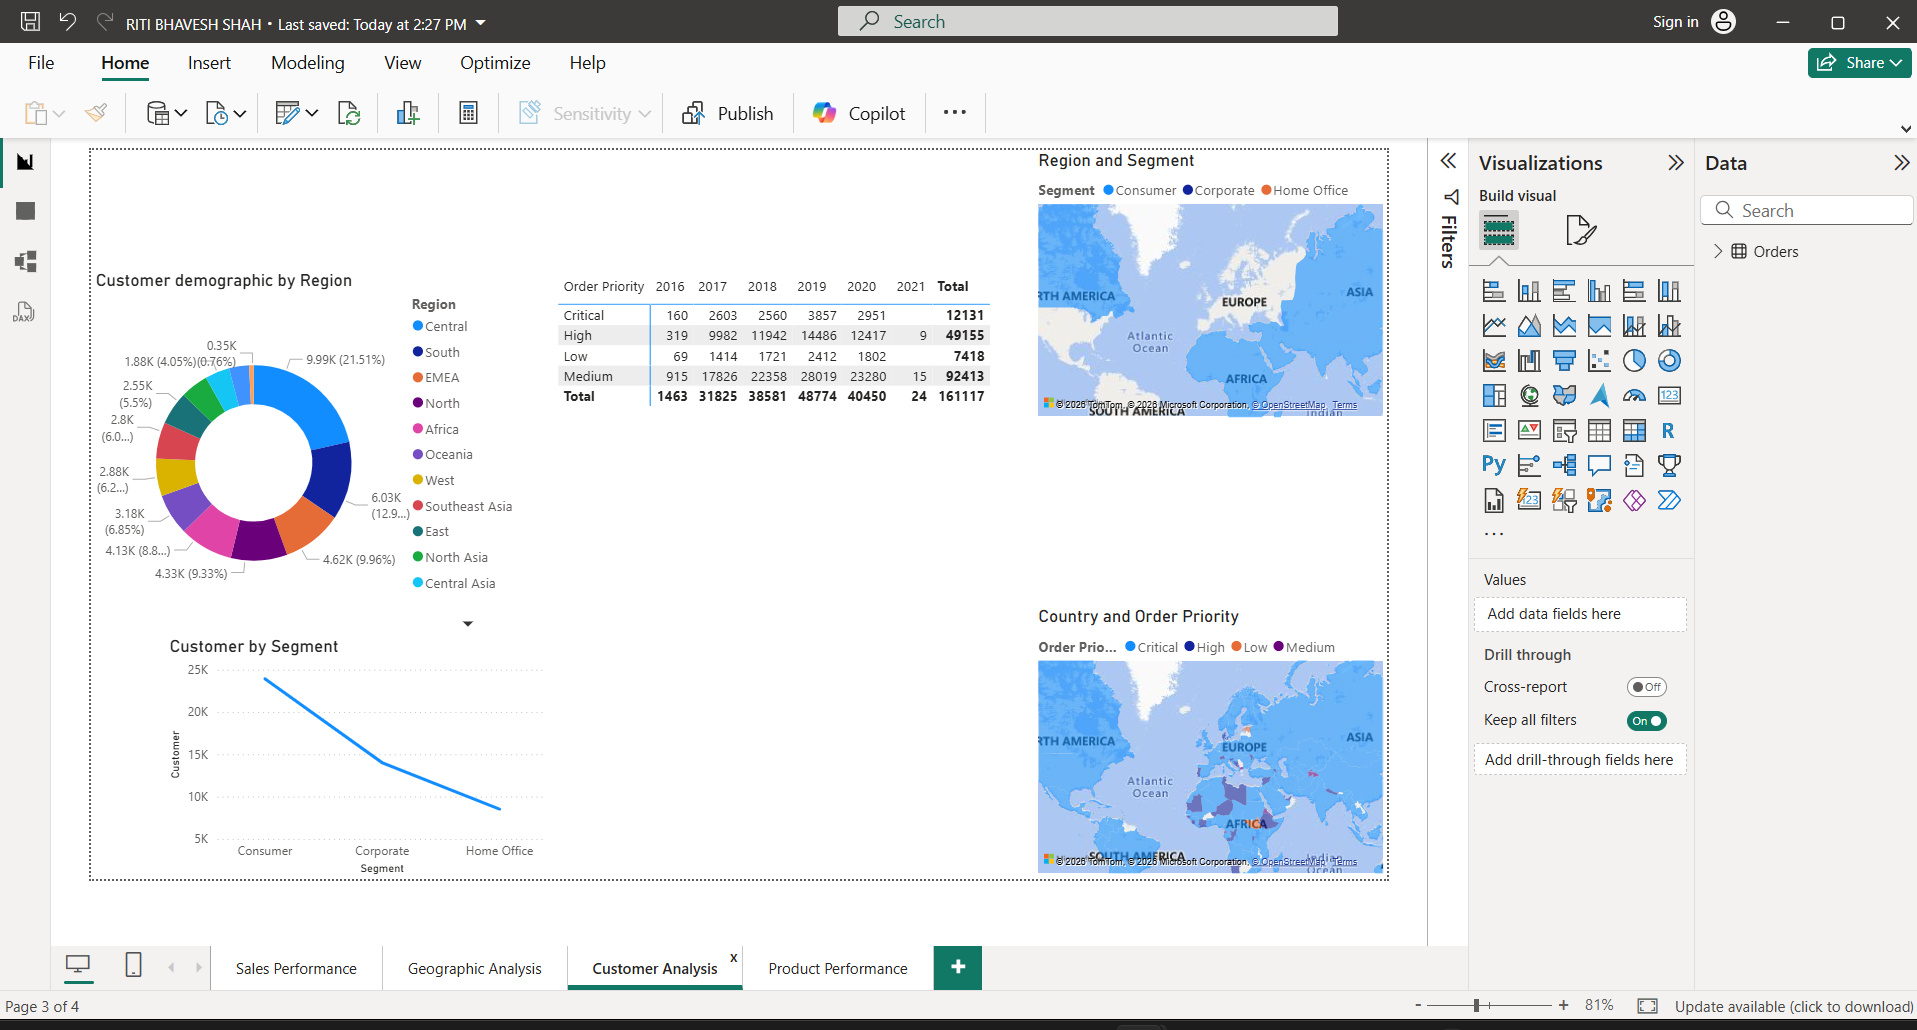

The dashboard page shown, as its layout file describes it:
{"tool":"powerbi","page":{"name":"Customer Analysis","canvas":[1280,720],"ordinal":2},"visuals":[{"type":"filledMap","fields":{"Category":["Orders.Region"],"Series":["Orders.Segment"]},"box":[930.4,0,349.9,269],"z":0},{"type":"filledMap","fields":{"Category":["Orders.Country","Orders.State","Orders.City"],"Series":["Orders.Order Priority"]},"box":[930.5,450.7,349.9,268.8],"z":1000},{"type":"lineChart","fields":{"Category":["Orders.Segment"],"Y":["CountNonNull(Orders.Customer Name)"]},"box":[72.7,480.3,384.2,240.1],"z":2000},{"type":"donutChart","fields":{"Category":["Orders.Region"],"Y":["CountNonNull(Orders.Customer Name)"]},"box":[0,118,430.9,362.3],"z":3000},{"type":"pivotTable","fields":{"Columns":["Orders.Order Date_.Variation.Date Hierarchy.Year","Orders.Order Date_.Variation.Date Hierarchy.Quarter","Orders.Order Date_.Variation.Date Hierarchy.Month","Orders.Order Date_.Variation.Date Hierarchy.Day"],"Values":["Sum(Orders.Quantity)"],"Rows":["Orders.Order Priority"]},"box":[456.9,118,473.4,332.1],"z":4000}]}

Visuals, with their boxes on the page's 1280x720 design canvas (x1, y1, x2, y2). These are canvas units, not pixel positions in the 1917x1030 screenshot, which may show the page scaled, cropped or inside an application window:
filledMap - Orders.Region x Orders.Segment: 930, 0, 1280, 269
filledMap - Orders.Country x Orders.State: 930, 451, 1280, 720
lineChart - Orders.Segment x CountNonNull(Orders.Customer Name): 73, 480, 457, 720
donutChart - Orders.Region x CountNonNull(Orders.Customer Name): 0, 118, 431, 480
pivotTable - Orders.Order Date_.Variation.Date Hierarchy.Year x Orders.Order Date_.Variation.Date Hierarchy.Quarter: 457, 118, 930, 450
